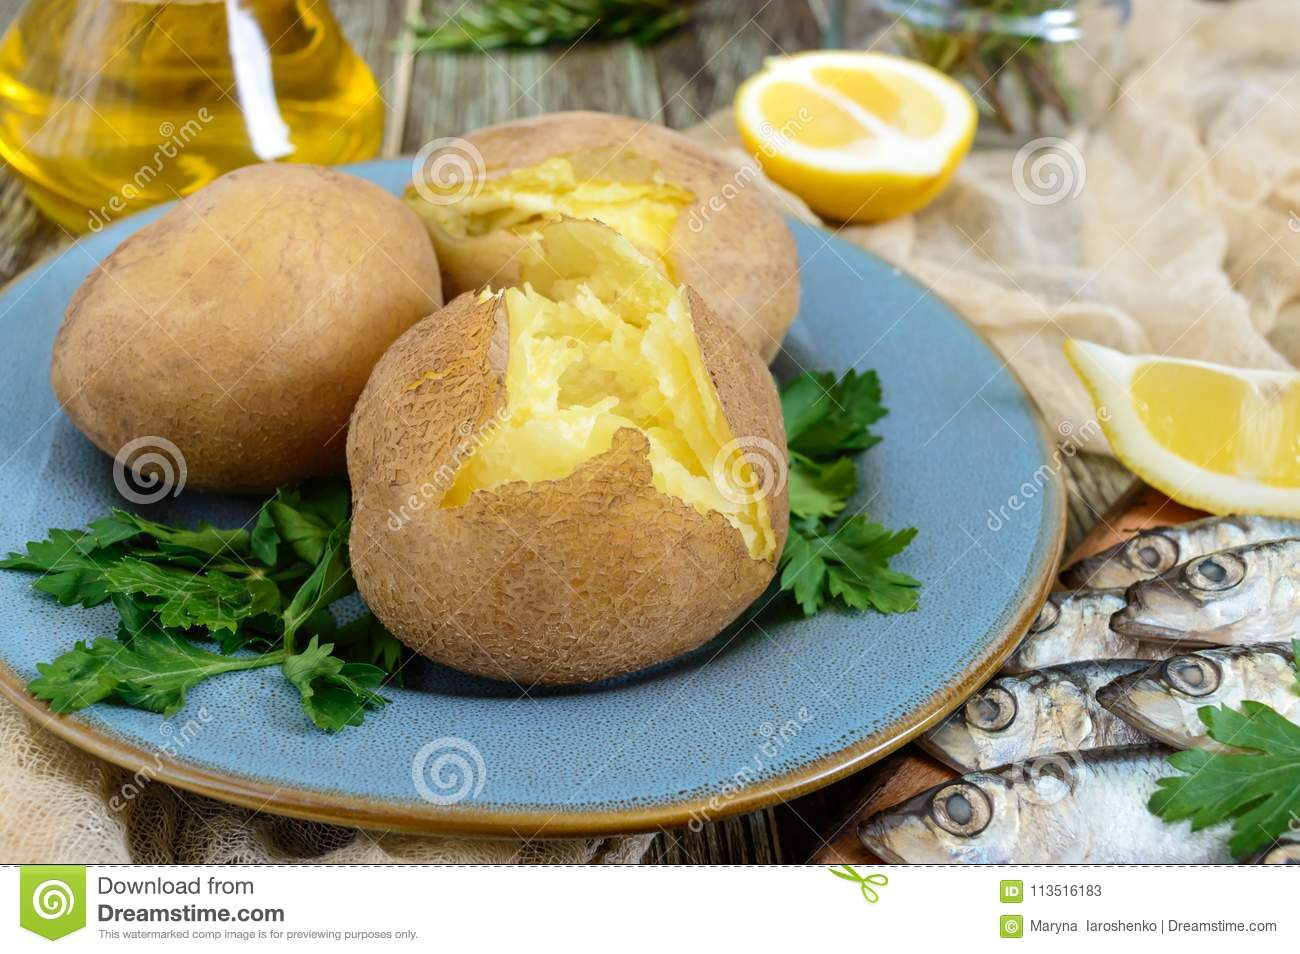boiled potatoes: (68, 124, 786, 670)
